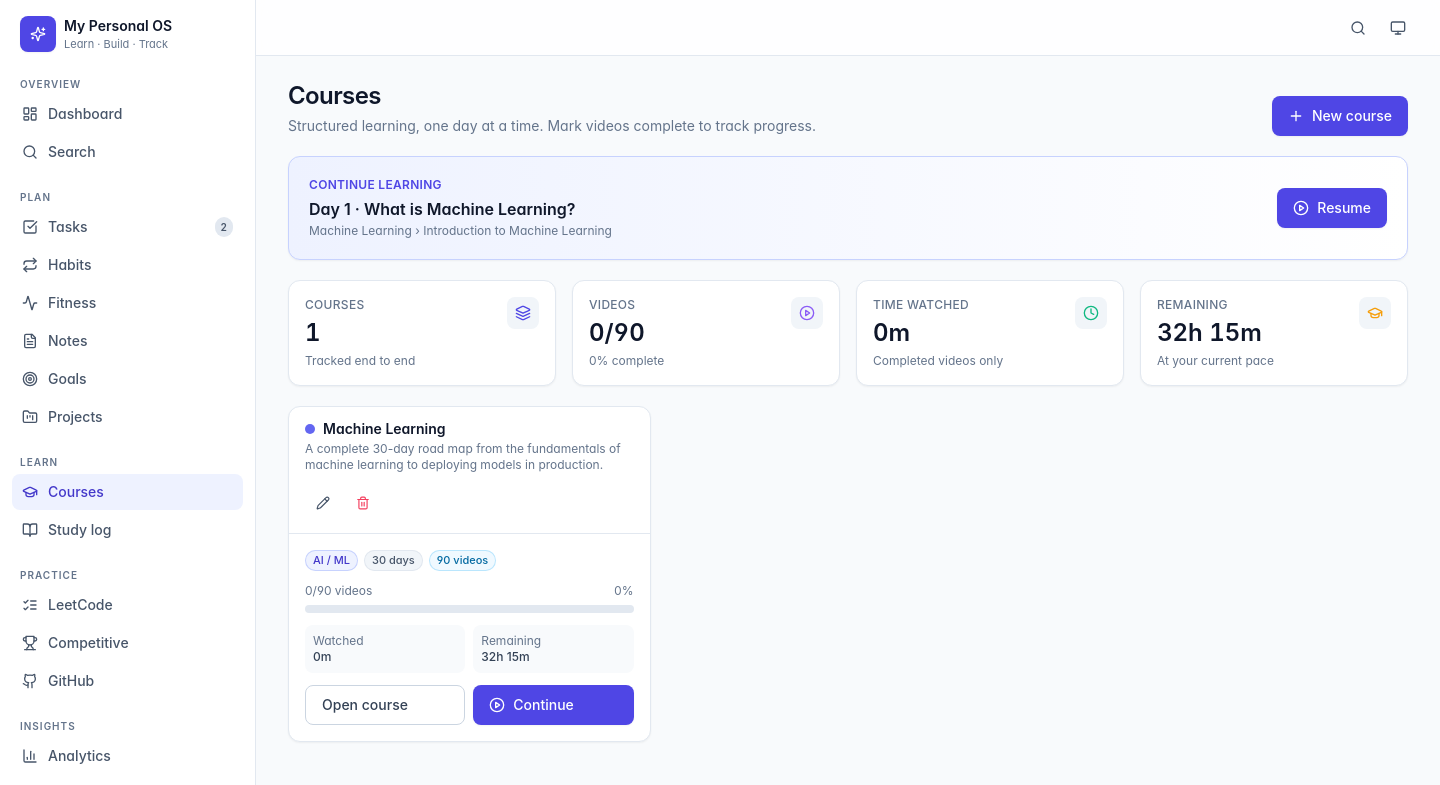
learning flow › points Continue Learning at the first incomplete video
The width and height of the screenshot is (1440, 785).
Expected: the heading "Courses" is shown, [288,81,381,110]
Click the link "Open course" at (385, 704), box [305,684,465,724]
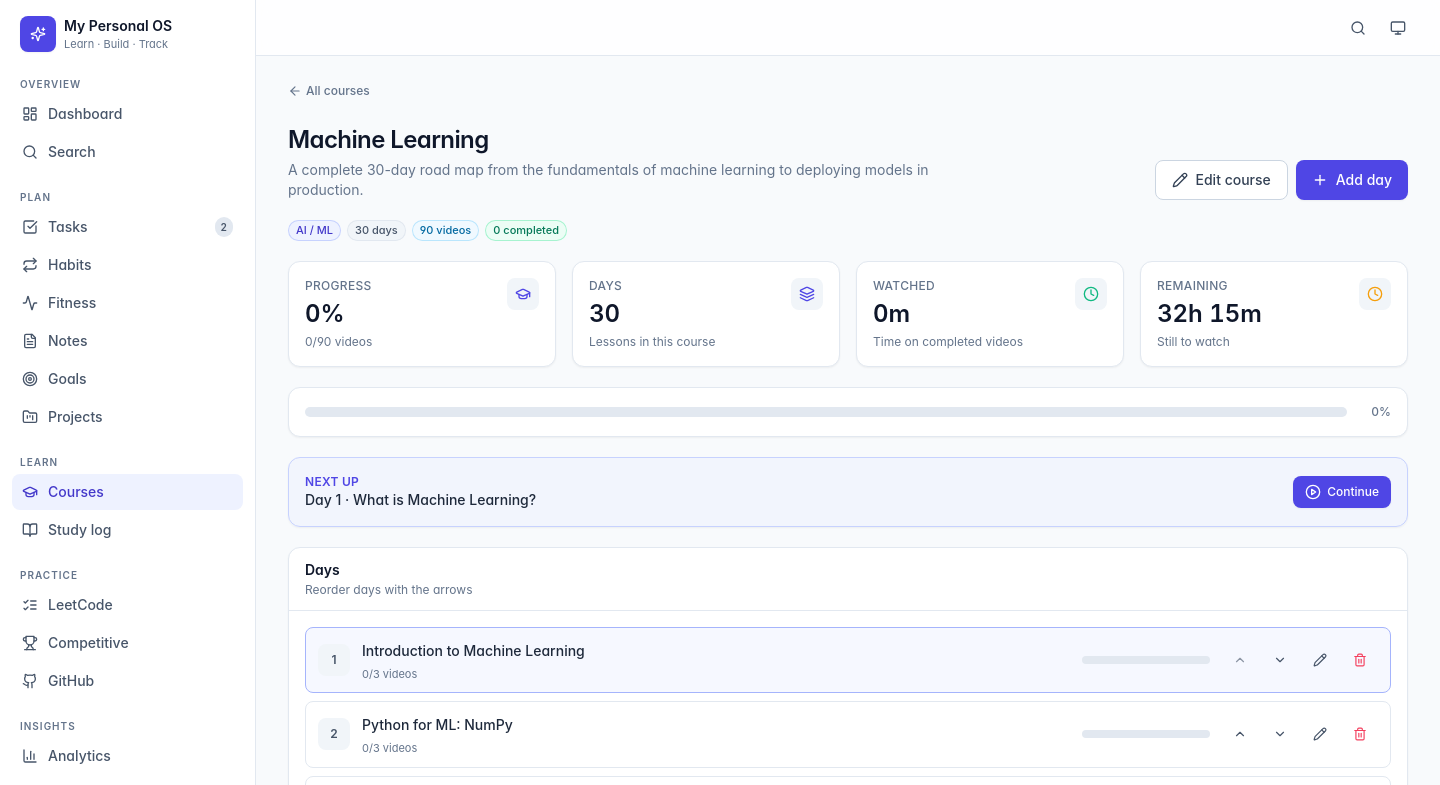
Now the heading "Machine Learning" is shown, box [288,125,489,154]
Now the text "Next up" is shown, box [305,474,359,488]
